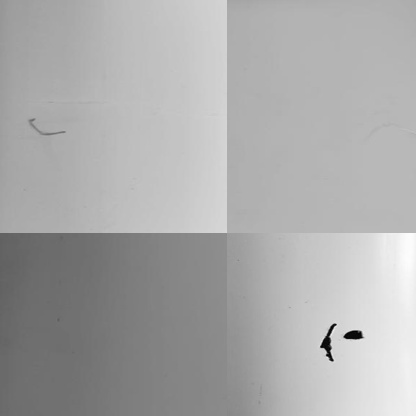fengxi: (26, 114, 67, 140)
kongdong: (316, 320, 339, 365), (345, 326, 367, 341)
